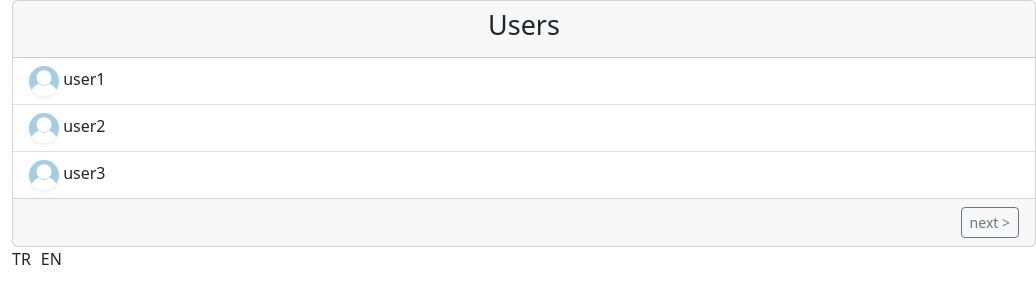
Test: Internationalization › displays header and navigation links in Turkish after selecting that language
The image size is (1036, 287).
Check: the list item "user1" is shown, box [13,58,1035,105]
Step 1. Click the button "next >" → (990, 223), box [961,207,1019,238]
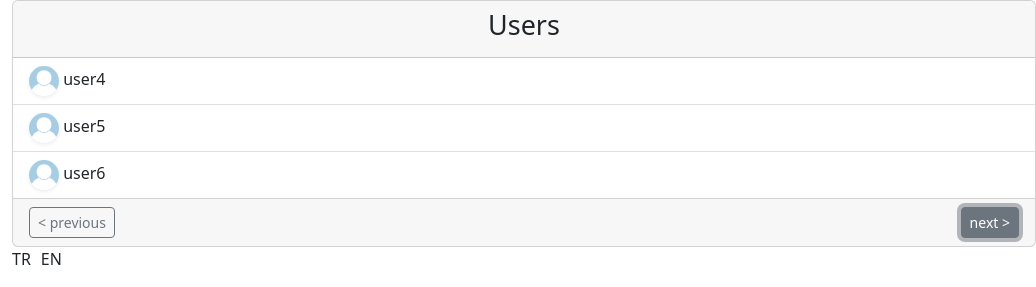
Check: the list item "user4" is shown, box [13,58,1035,105]
Step 2. Click the text titled "Türkçe" → (21, 259), box [12,248,31,270]
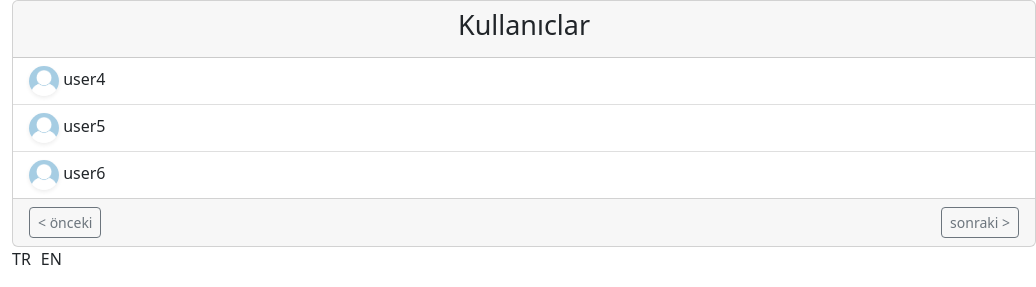
Check: the heading "Kullanıclar" is shown, box [458,6,590,43]
Check: the button "sonraki >" is shown, box [941,207,1019,238]
Check: the button "< önceki" is shown, box [29,207,102,238]
